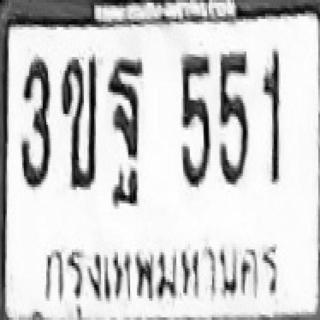A02: (60, 54, 96, 187)
A16: (105, 57, 143, 184)
N01: (261, 49, 282, 184)
N03: (19, 54, 50, 187)
N05: (179, 52, 211, 187), (217, 50, 248, 186)
P04: (38, 239, 284, 311)
